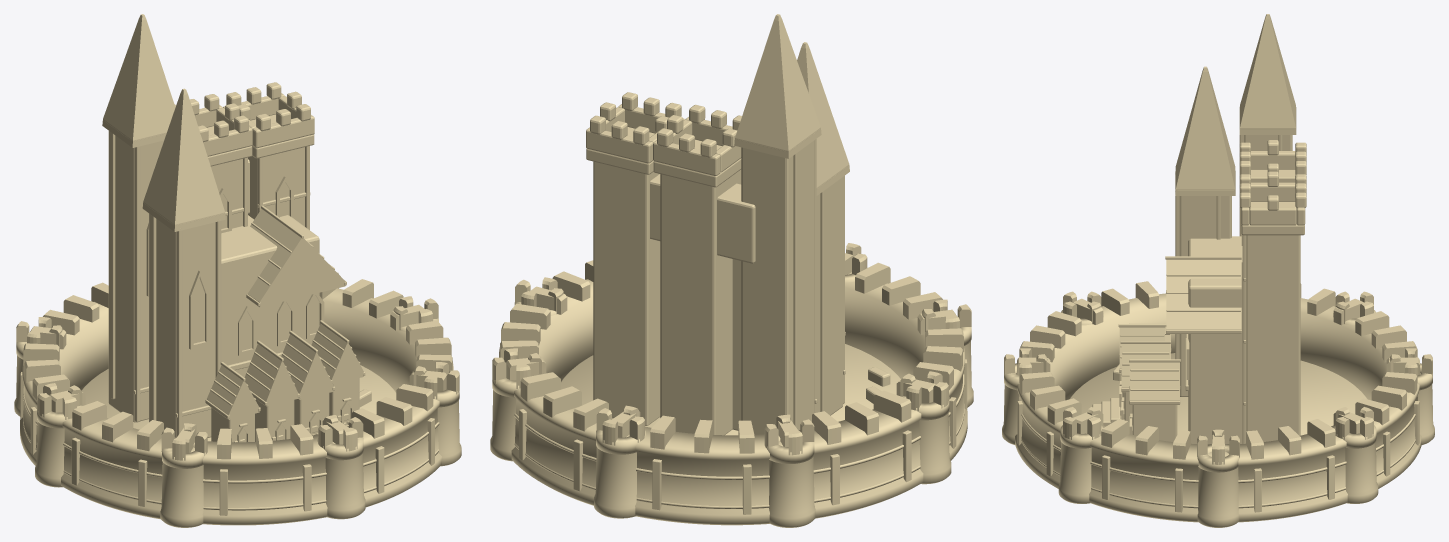
File: metropolis-with-wall-beige.fbx
3 renders of one model, left to right at view 1: azimuth 30°, elevation 25°; view 2: azimuth 150°, elevation 25°; view 3: azimuth 270°, elevation 25°, orthographic. The views are drawn at different scales.
Visible parts, largest first — view 1: Combined_Metropolis_Body, Combined_Independent_City_Wall; view 2: Combined_Metropolis_Body, Combined_Independent_City_Wall; view 3: Combined_Independent_City_Wall, Combined_Metropolis_Body.
Part boxes in pixels (x1,y1,x2,y2): Combined_Metropolis_Body: (81, 14, 396, 442); Combined_Independent_City_Wall: (14, 272, 461, 527); Combined_Metropolis_Body: (561, 14, 901, 435); Combined_Independent_City_Wall: (490, 243, 973, 527); Combined_Independent_City_Wall: (1002, 281, 1434, 527); Combined_Metropolis_Body: (1068, 14, 1368, 444).
Size of the model in its own units: 0.024 by 0.024 by 0.024.
